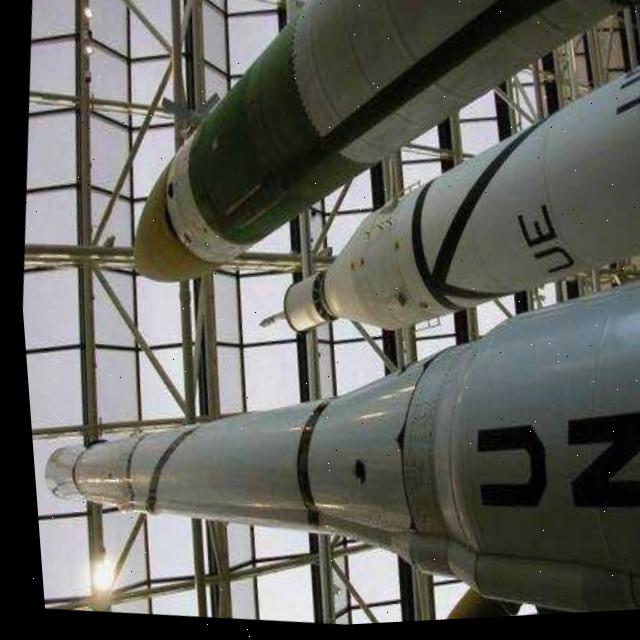missile: (13, 204, 640, 634), (93, 0, 634, 329), (224, 8, 640, 383)
